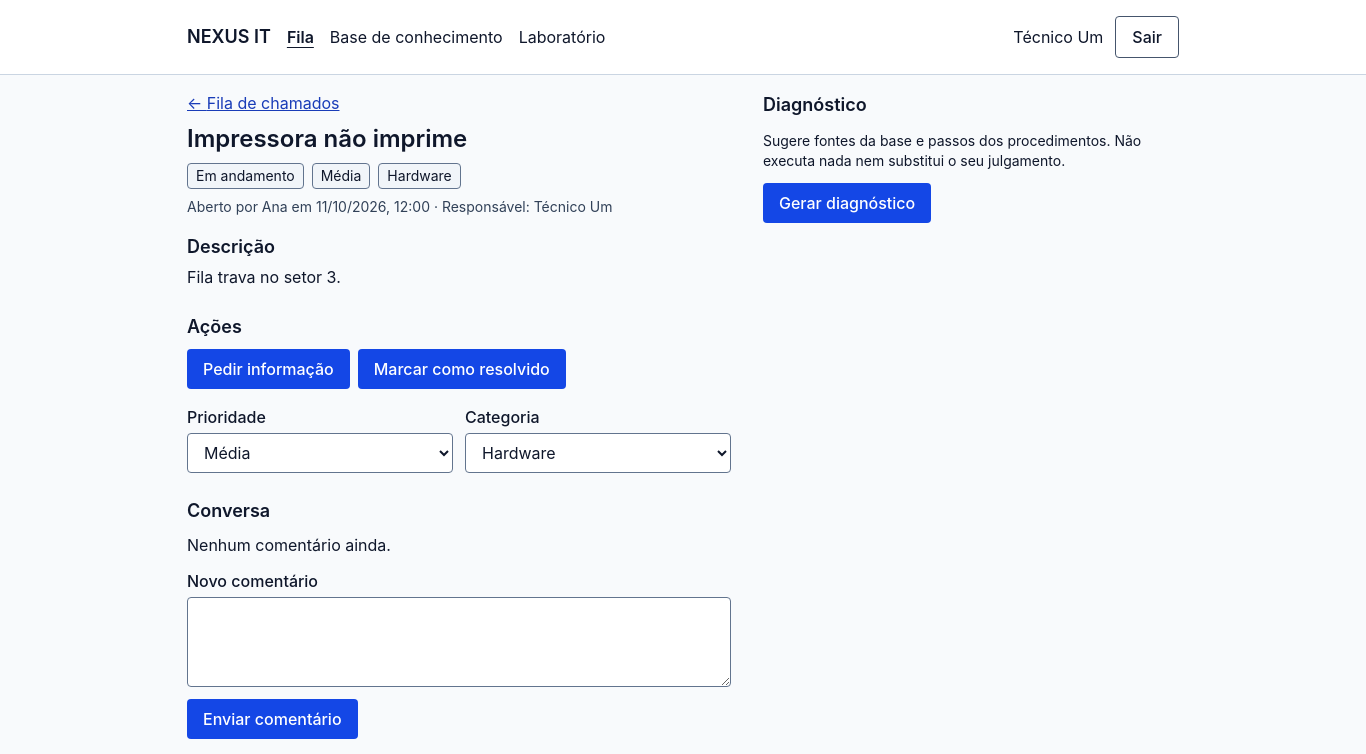
Test: painel de diagnóstico: execução (FR-09) › pede o diagnóstico por POST com o token CSRF e sem corpo
Click the button "Gerar diagnóstico": (847, 203) [763,183,931,223]
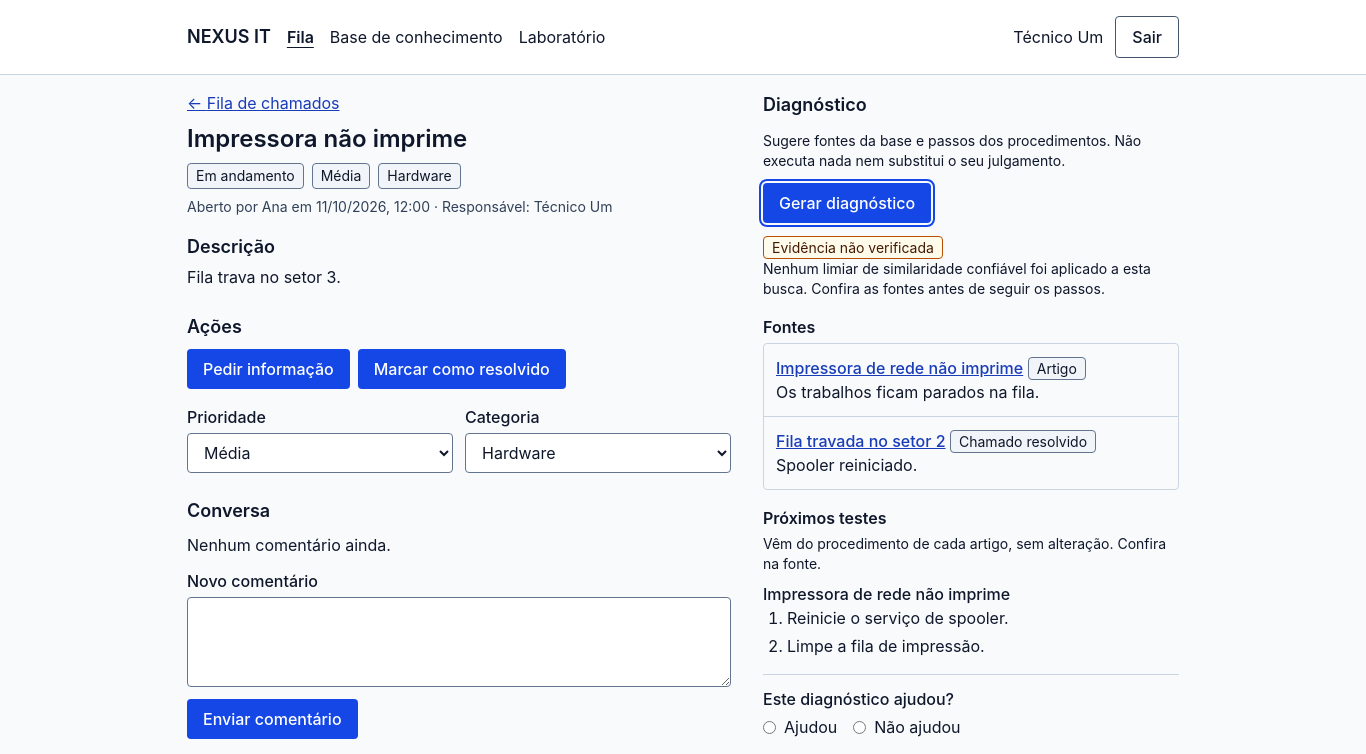
Check: the text "Evidência não verificada" is shown, box [763,236,943,259]
